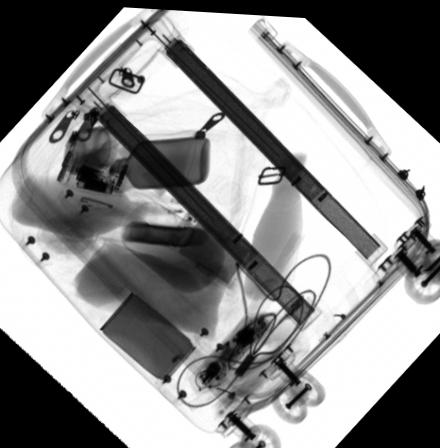Powerbank: (162, 202, 256, 285)
